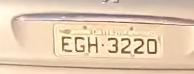Placa_mercosul_carro: (52, 22, 163, 58)
